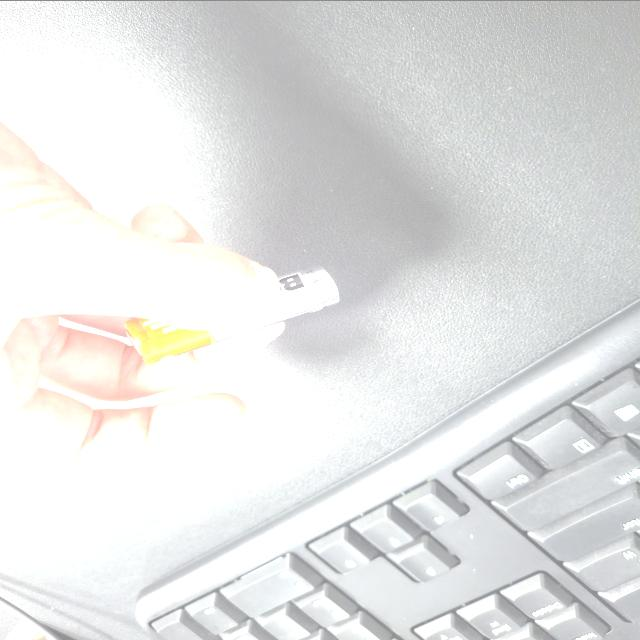AA: (370, 253, 498, 415)
